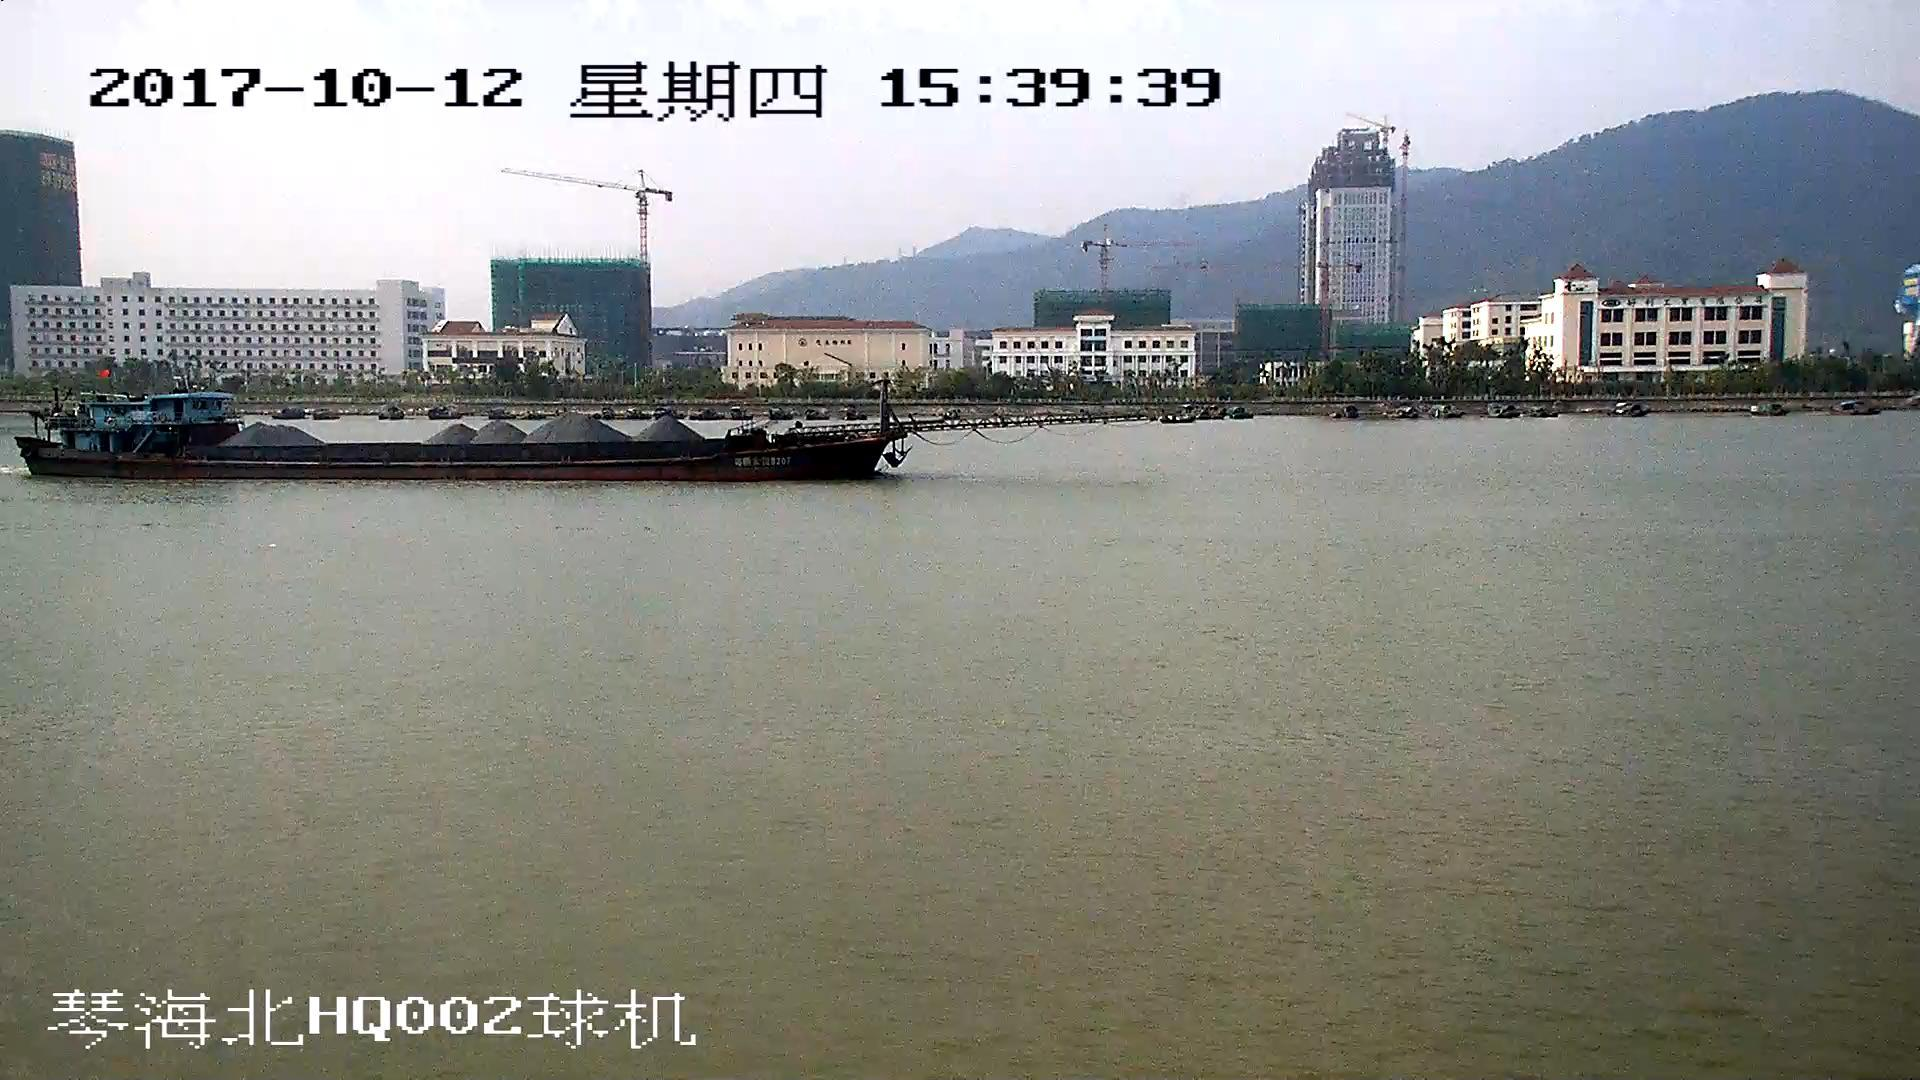Ship: (22, 371, 1121, 483)
